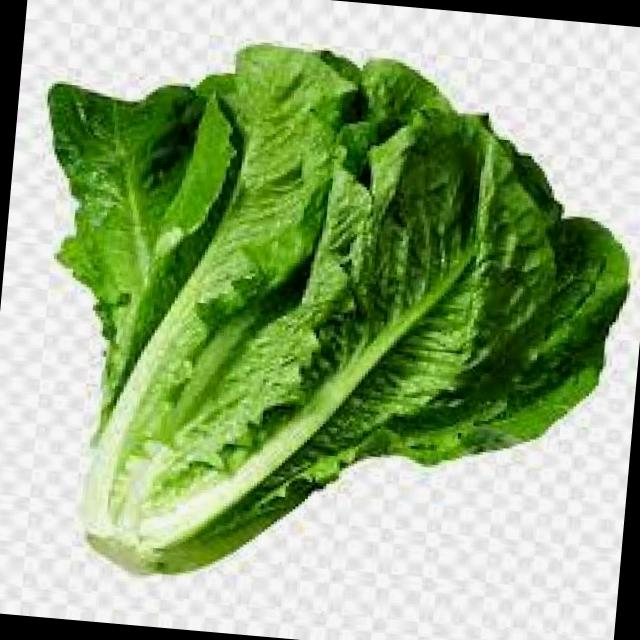Lettuce-Ready-to-Harvest: (48, 45, 627, 571)
